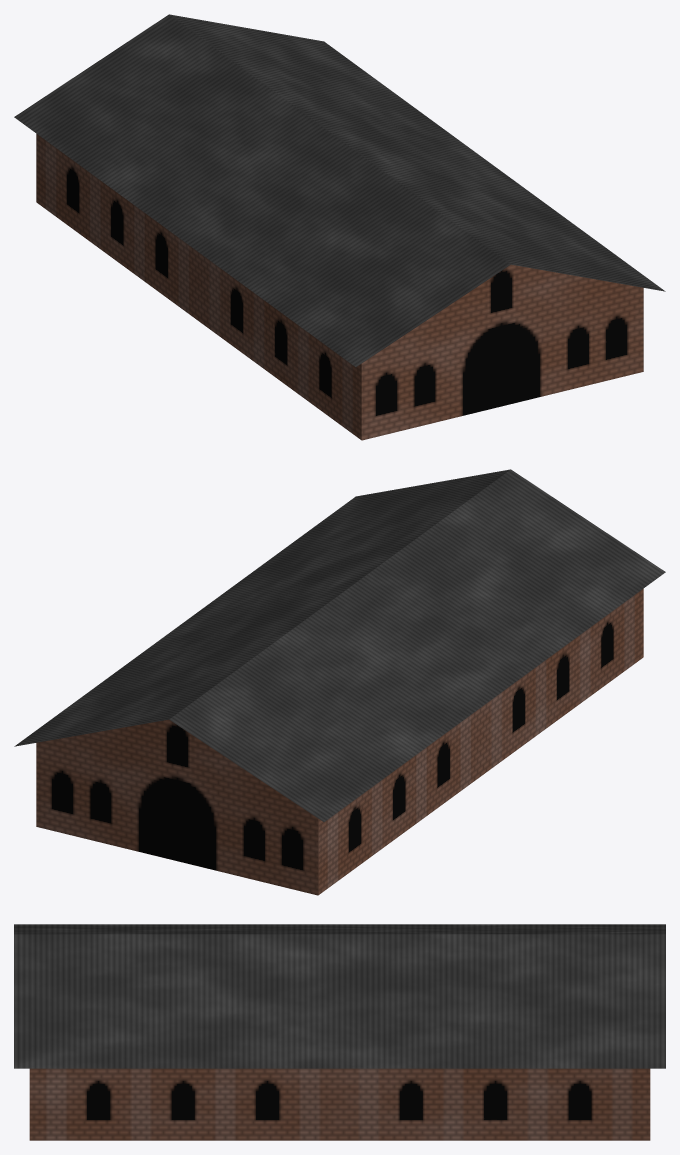
Rendered from Warehouse.fbx.
3 views of the same model, one above another, from view 1: azimuth 30°, elevation 25°; view 2: azimuth 150°, elevation 25°; view 3: azimuth 270°, elevation 25° (orthographic). The views are drawn at different scales.
Parts seen in each view (by area): view 1: Mesh; view 2: Mesh; view 3: Mesh.
Part boxes in pixels (x1=…): Mesh: x1=14, y1=14, x2=665, y2=440; Mesh: x1=14, y1=469, x2=665, y2=895; Mesh: x1=14, y1=924, x2=665, y2=1140.
Size of the model in its own units: 11 by 5 by 21.
